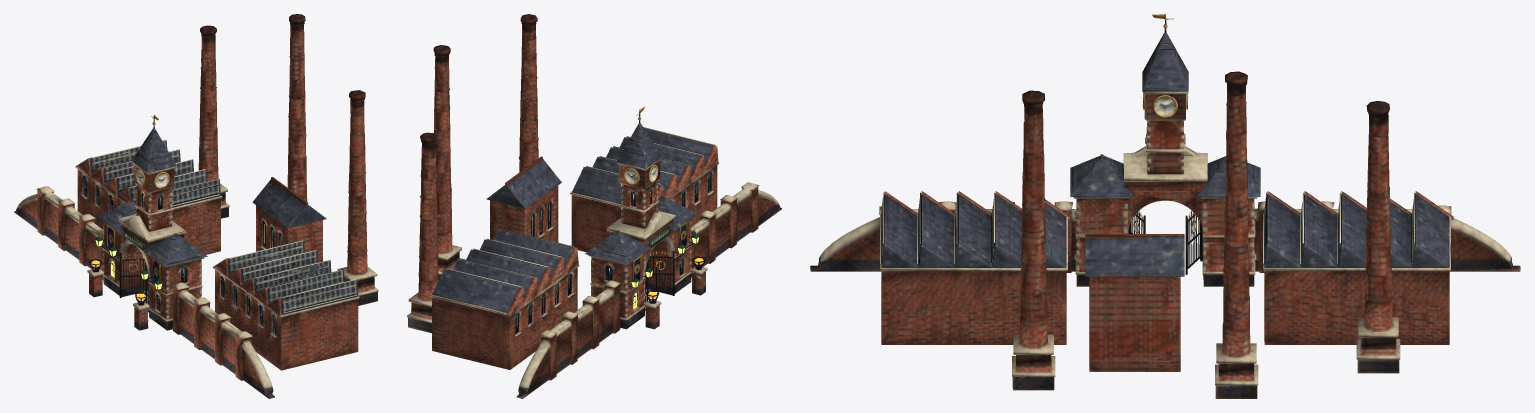
Rendered from industrial_city.glb.
3 renders of one model, left to right at view 1: azimuth 30°, elevation 25°; view 2: azimuth 150°, elevation 25°; view 3: azimuth 270°, elevation 25°, orthographic. The views are drawn at different scales.
Parts seen in each view (by area): view 1: City; view 2: City; view 3: City.
Boxes of the visible parts, x1=… form: City: x1=14, y1=14, x2=378, y2=398; City: x1=407, y1=14, x2=781, y2=398; City: x1=810, y1=14, x2=1520, y2=398.
Bounding box in the file's own units: 7.11 × 6.84 × 14.
Materials: 3 (1 with a texture image).
